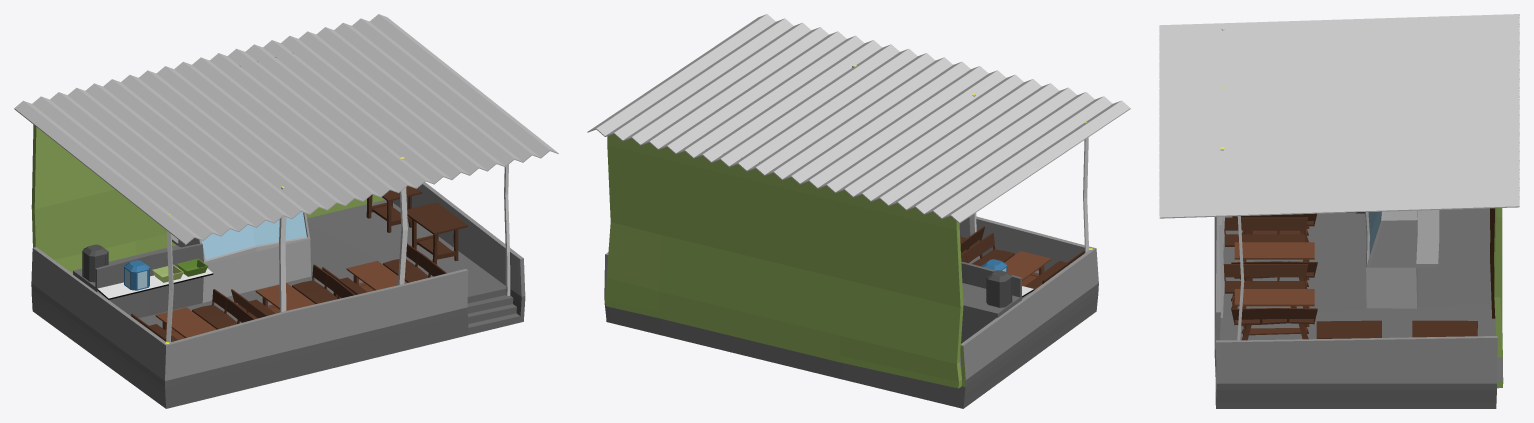
Rendered from warteg.fbx.
3 renders of one model, left to right at view 1: azimuth 30°, elevation 25°; view 2: azimuth 150°, elevation 25°; view 3: azimuth 270°, elevation 25°, orthographic. The views are drawn at different scales.
Visible parts, largest first — view 1: Cube; view 2: Cube; view 3: Cube.
Boxes of the visible parts, x1,y1,x2,y2 form: Cube: (14, 14, 558, 408); Cube: (587, 14, 1130, 408); Cube: (1159, 14, 1519, 408).
Size of the model in its own units: 1400 by 725 by 1115.
